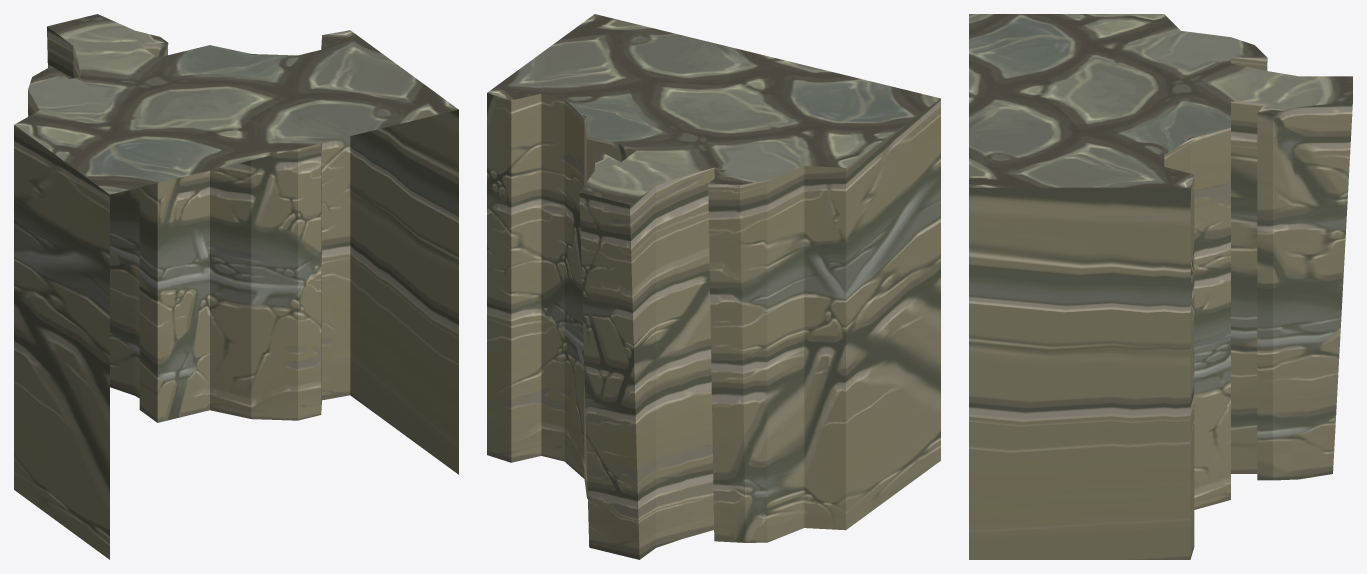
File: broken_edge_piece.fbx
The picture shows the model from 3 angles, left to right: view 1: azimuth 30°, elevation 25°; view 2: azimuth 150°, elevation 25°; view 3: azimuth 270°, elevation 25°; orthographic projection. The views are drawn at different scales.
Parts seen in each view (by area): view 1: brokenEDGEfloor; view 2: brokenEDGEfloor; view 3: brokenEDGEfloor.
Boxes of the visible parts, x1=… form: brokenEDGEfloor: x1=14, y1=14, x2=458, y2=559; brokenEDGEfloor: x1=487, y1=14, x2=940, y2=559; brokenEDGEfloor: x1=969, y1=14, x2=1352, y2=559.
Bounding box in the file's own units: 1 × 1 × 0.9346.
